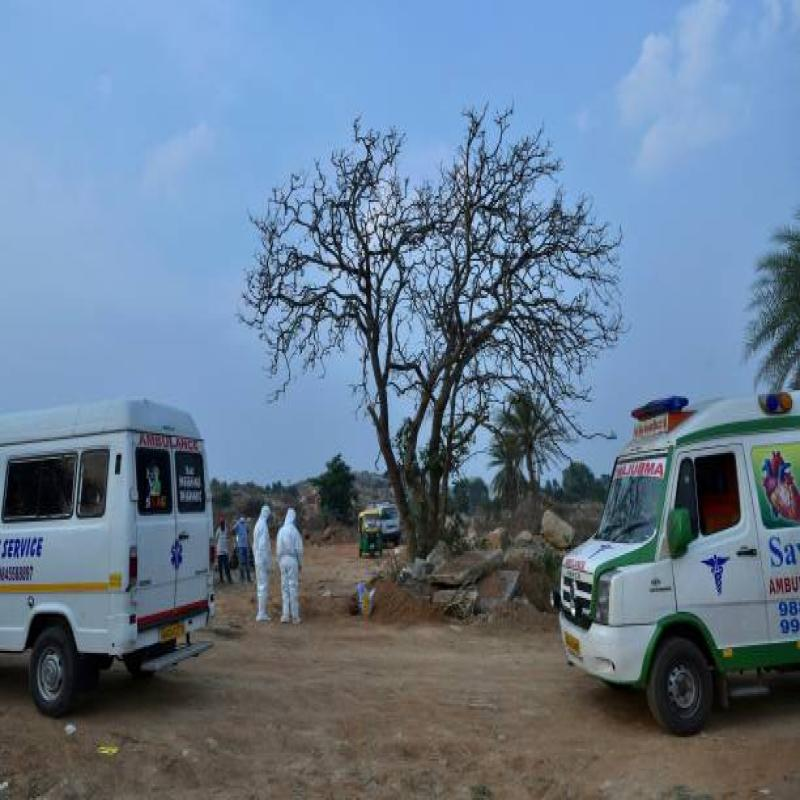ambulance: (533, 350, 800, 742), (0, 379, 234, 729)
